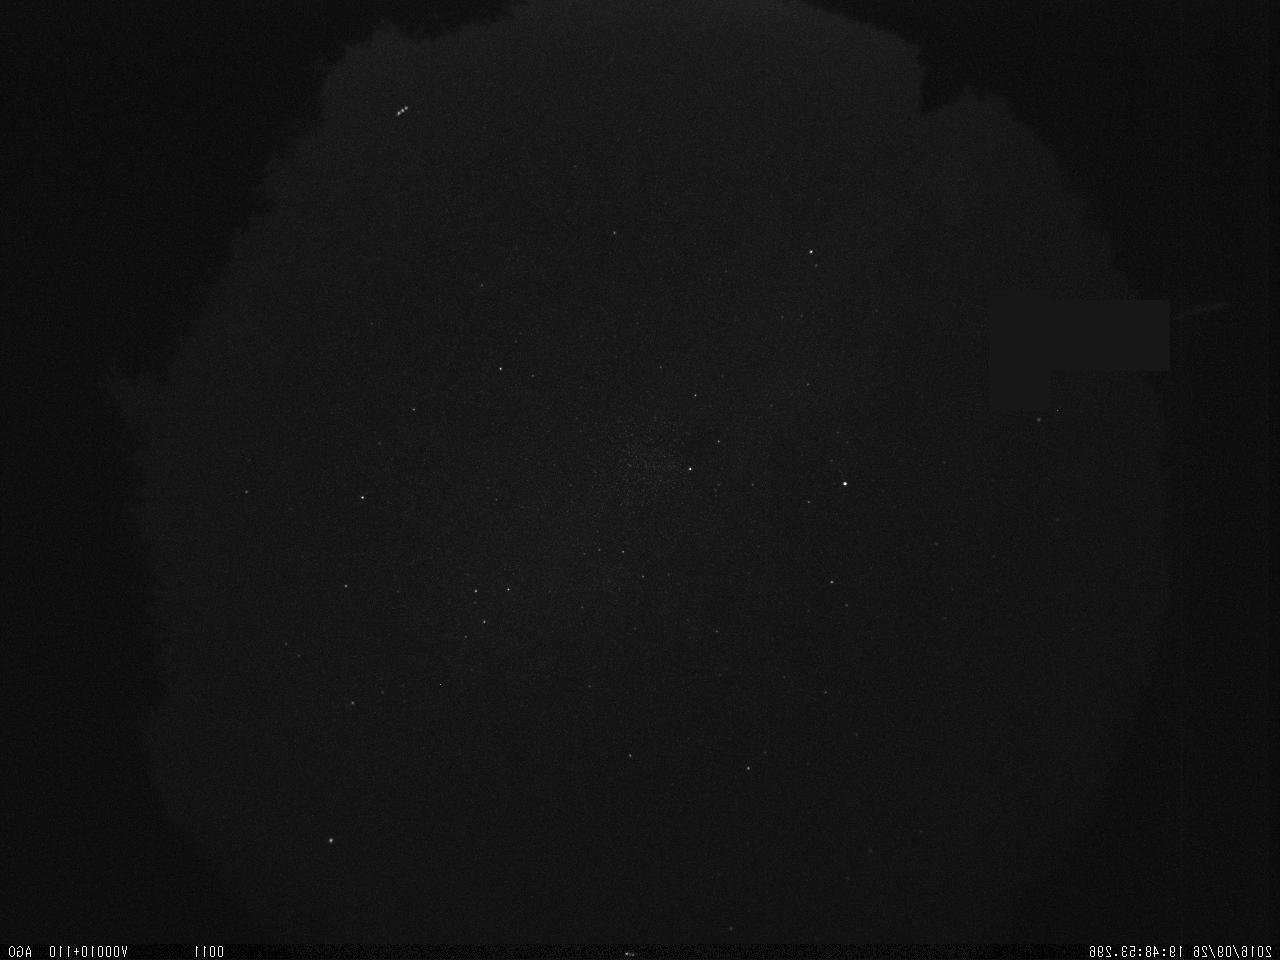meteor: (1038, 321, 1114, 372)
